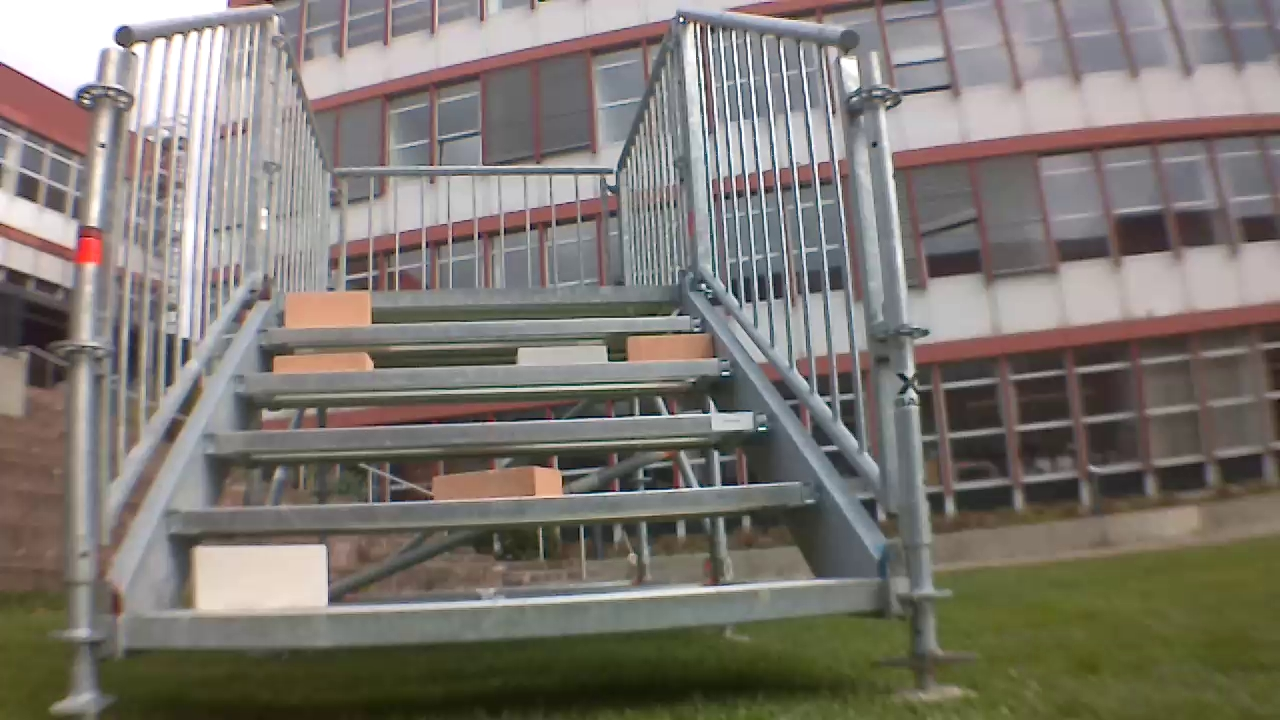brick: (188, 541, 331, 615), (426, 468, 564, 499), (285, 289, 369, 326), (623, 328, 716, 358), (517, 340, 614, 366), (268, 355, 374, 376)
edge: (134, 573, 886, 650), (168, 479, 818, 534), (199, 412, 775, 457), (234, 356, 733, 395), (252, 314, 705, 344), (277, 285, 682, 304)
stairs: (61, 2, 942, 682)
steps: (116, 280, 875, 658)
